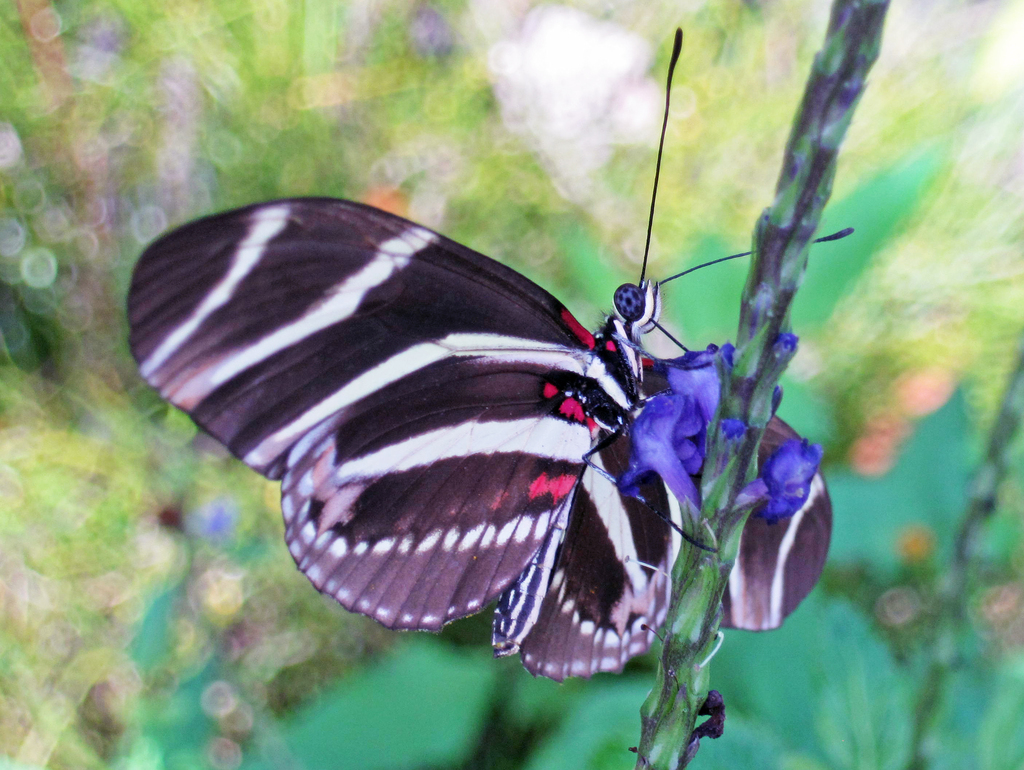Butterfly: (131, 175, 781, 681)
